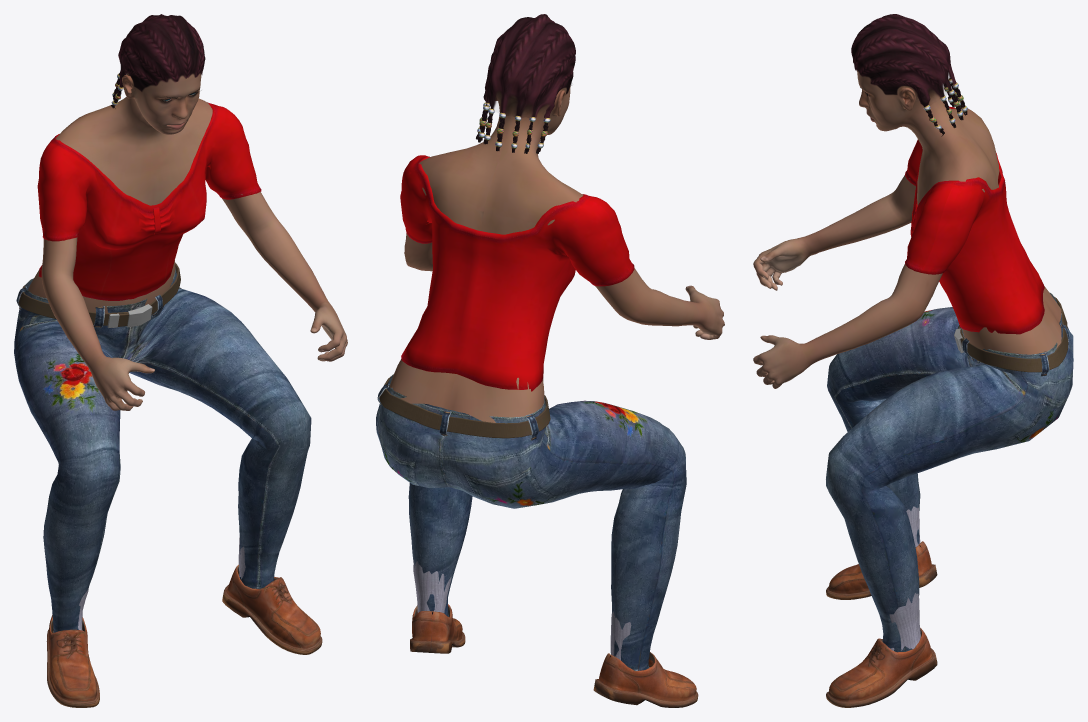
Rendered from donna-02.glb.
3 renders of one model, left to right at view 1: azimuth 30°, elevation 25°; view 2: azimuth 150°, elevation 25°; view 3: azimuth 270°, elevation 25°, orthographic. The views are drawn at different scales.
Visible parts, largest first — view 1: Human.mindfront_female_trousers_1, Human, Human.punkduck_retro_top, Human.shoes01, Human.elvs_braided_rows; view 2: Human.mindfront_female_trousers_1, Human.punkduck_retro_top, Human, Human.elvs_braided_rows, Human.shoes01; view 3: Human.mindfront_female_trousers_1, Human, Human.punkduck_retro_top, Human.shoes01, Human.elvs_braided_rows.
Boxes of the visible parts, <box> form: Human.mindfront_female_trousers_1: <box>14,263,311,632</box>; Human: <box>28,73,347,410</box>; Human.punkduck_retro_top: <box>37,102,261,300</box>; Human.shoes01: <box>46,536,322,707</box>; Human.elvs_braided_rows: <box>111,14,205,108</box>; Human.mindfront_female_trousers_1: <box>376,374,686,670</box>; Human.punkduck_retro_top: <box>400,155,634,391</box>; Human: <box>389,85,724,422</box>; Human.elvs_braided_rows: <box>476,14,575,153</box>; Human.shoes01: <box>410,559,698,707</box>; Human.mindfront_female_trousers_1: <box>826,292,1073,652</box>; Human: <box>753,70,1061,388</box>; Human.punkduck_retro_top: <box>905,106,1044,334</box>; Human.shoes01: <box>826,506,937,707</box>; Human.elvs_braided_rows: <box>851,14,967,136</box>.
Bounding box in the file's own units: 0.6124 × 1.43 × 0.6606.
Materials: 13 (13 with a texture image).
